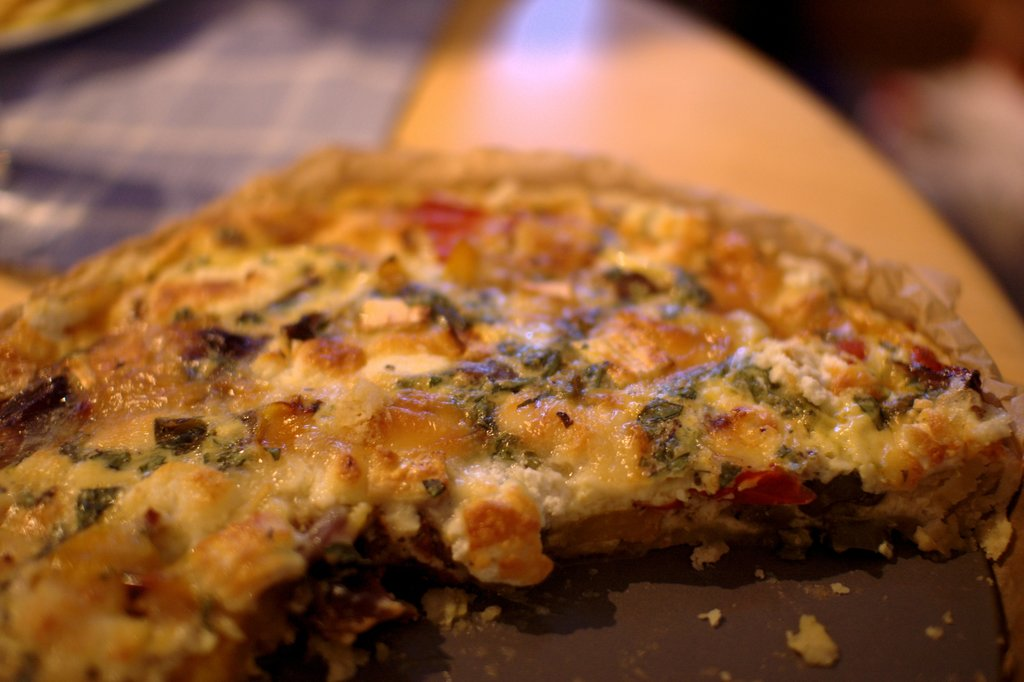Pizza: (0, 117, 1024, 672)
